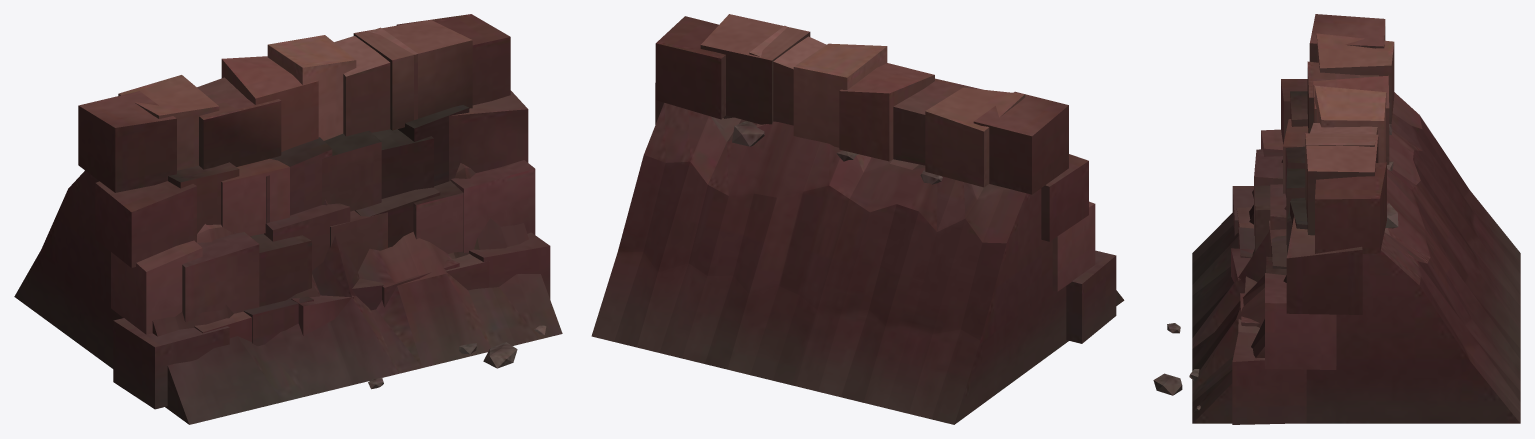
File: cliff-fulgora-sides.glb
3 renders of one model, left to right at view 1: azimuth 30°, elevation 25°; view 2: azimuth 150°, elevation 25°; view 3: azimuth 270°, elevation 25°, orthographic. The views are drawn at different scales.
Parts seen in each view (by area): view 1: cliff-fulgora-sides; view 2: cliff-fulgora-sides; view 3: cliff-fulgora-sides.
Part boxes in pixels (left/top/right/bottom): cliff-fulgora-sides: left=14, top=14, right=562, bottom=424; cliff-fulgora-sides: left=591, top=14, right=1124, bottom=424; cliff-fulgora-sides: left=1153, top=14, right=1520, bottom=424.
Size of the model in its own units: 4.37 by 2.72 by 3.64.
2 materials, 2 textured.
